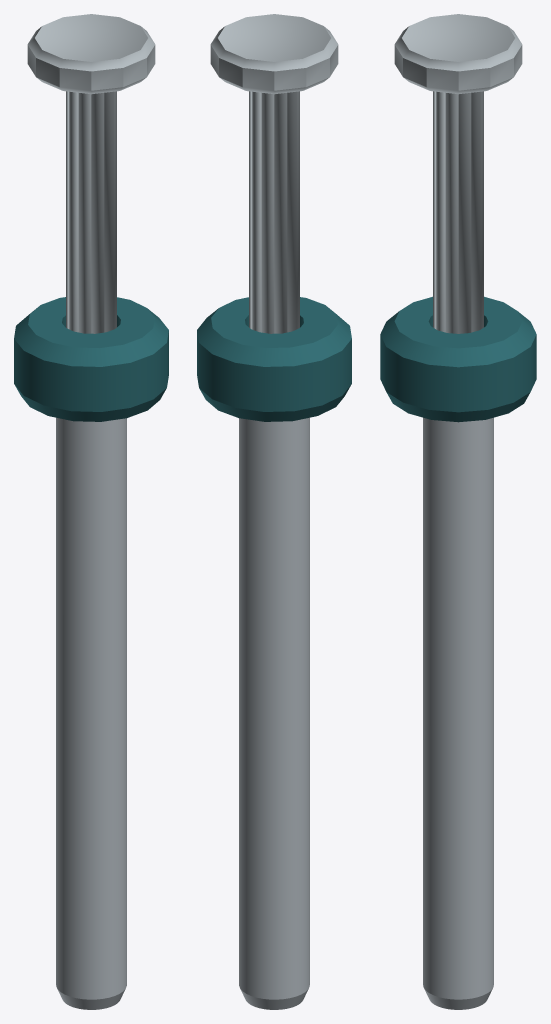
File: VLAB_cork_borer.fbx
3 renders of one model, left to right at view 1: azimuth 30°, elevation 25°; view 2: azimuth 150°, elevation 25°; view 3: azimuth 270°, elevation 25°, orthographic.
Parts seen in each view (by area): view 1: VLAB_cork_borer_Tube_VIS, VLAB_cork_borer_Ejector_VIS, VLAB_cork_borer_Handle_VIS; view 2: VLAB_cork_borer_Tube_VIS, VLAB_cork_borer_Ejector_VIS, VLAB_cork_borer_Handle_VIS; view 3: VLAB_cork_borer_Tube_VIS, VLAB_cork_borer_Ejector_VIS, VLAB_cork_borer_Handle_VIS.
Boxes of the visible parts, <box> form: VLAB_cork_borer_Tube_VIS: <box>56,417,126,1009</box>; VLAB_cork_borer_Ejector_VIS: <box>27,14,155,333</box>; VLAB_cork_borer_Handle_VIS: <box>14,297,168,421</box>; VLAB_cork_borer_Tube_VIS: <box>239,417,309,1009</box>; VLAB_cork_borer_Ejector_VIS: <box>210,14,338,333</box>; VLAB_cork_borer_Handle_VIS: <box>197,297,351,421</box>; VLAB_cork_borer_Tube_VIS: <box>423,417,493,1009</box>; VLAB_cork_borer_Ejector_VIS: <box>394,14,522,333</box>; VLAB_cork_borer_Handle_VIS: <box>380,296,536,422</box>.
Bounding box in the file's own units: 0.022 × 0.149 × 0.022.
